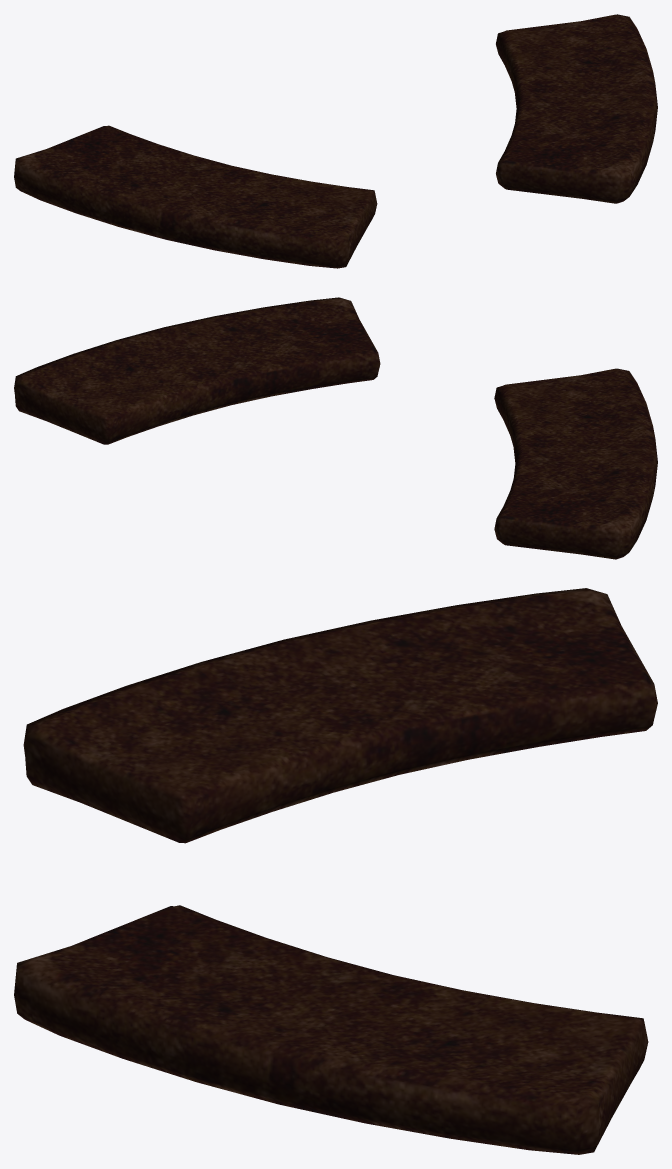
The model's file is TriTableSeats.fbx.
3 renders of one model, top to bottom at view 1: azimuth 30°, elevation 25°; view 2: azimuth 150°, elevation 25°; view 3: azimuth 270°, elevation 25°, orthographic. The views are drawn at different scales.
Parts seen in each view (by area): view 1: TriTableSeats; view 2: TriTableSeats; view 3: TriTableSeats.
Boxes of the visible parts, x1=… form: TriTableSeats: x1=14, y1=14, x2=657, y2=268; TriTableSeats: x1=14, y1=297, x2=657, y2=559; TriTableSeats: x1=14, y1=588, x2=657, y2=1154.
Size of the model in its own units: 252 by 12.44 by 131.
Materials: 1 (1 with a texture image).
